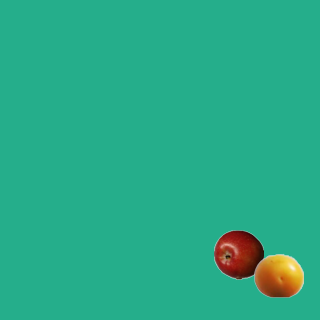Apple Braeburn: (213, 229, 263, 279)
Cherry Wax Yellow: (253, 250, 303, 300)
